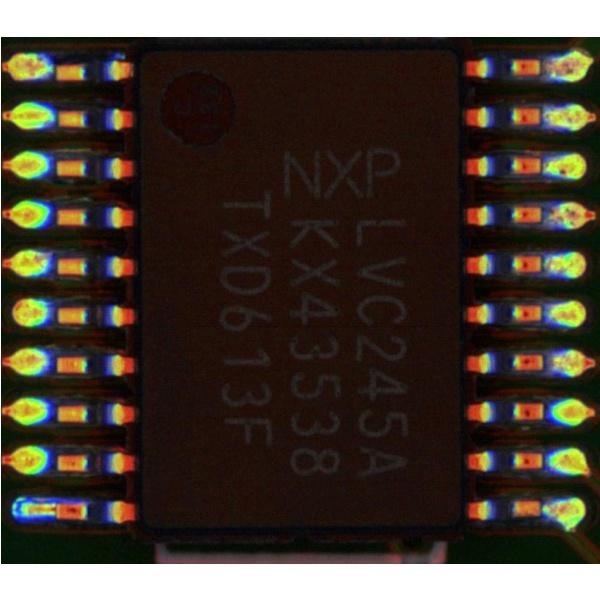Bad_podu: (40, 505, 67, 516)
